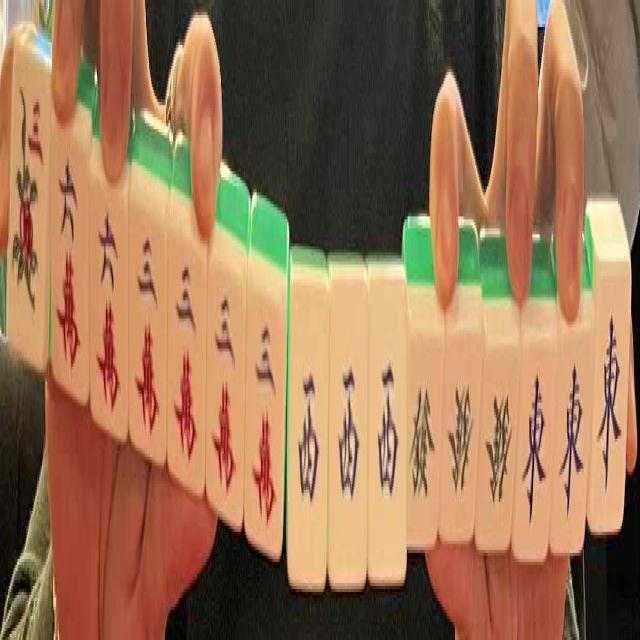3C: (250, 282, 284, 533), (209, 269, 243, 504), (132, 210, 166, 442), (172, 246, 205, 478)
3S: (10, 45, 47, 352)
6C: (54, 94, 86, 385), (89, 170, 123, 424)
EW: (593, 280, 626, 514), (554, 340, 589, 541), (520, 344, 555, 544)
GD: (482, 349, 517, 535), (409, 337, 439, 540), (443, 342, 475, 528)
WW: (291, 292, 324, 570), (332, 292, 364, 566), (370, 293, 402, 566)
